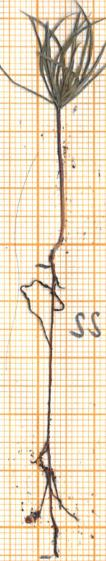flower: (0, 1, 106, 115)
root: (18, 275, 81, 558)
stem: (46, 111, 71, 267)
